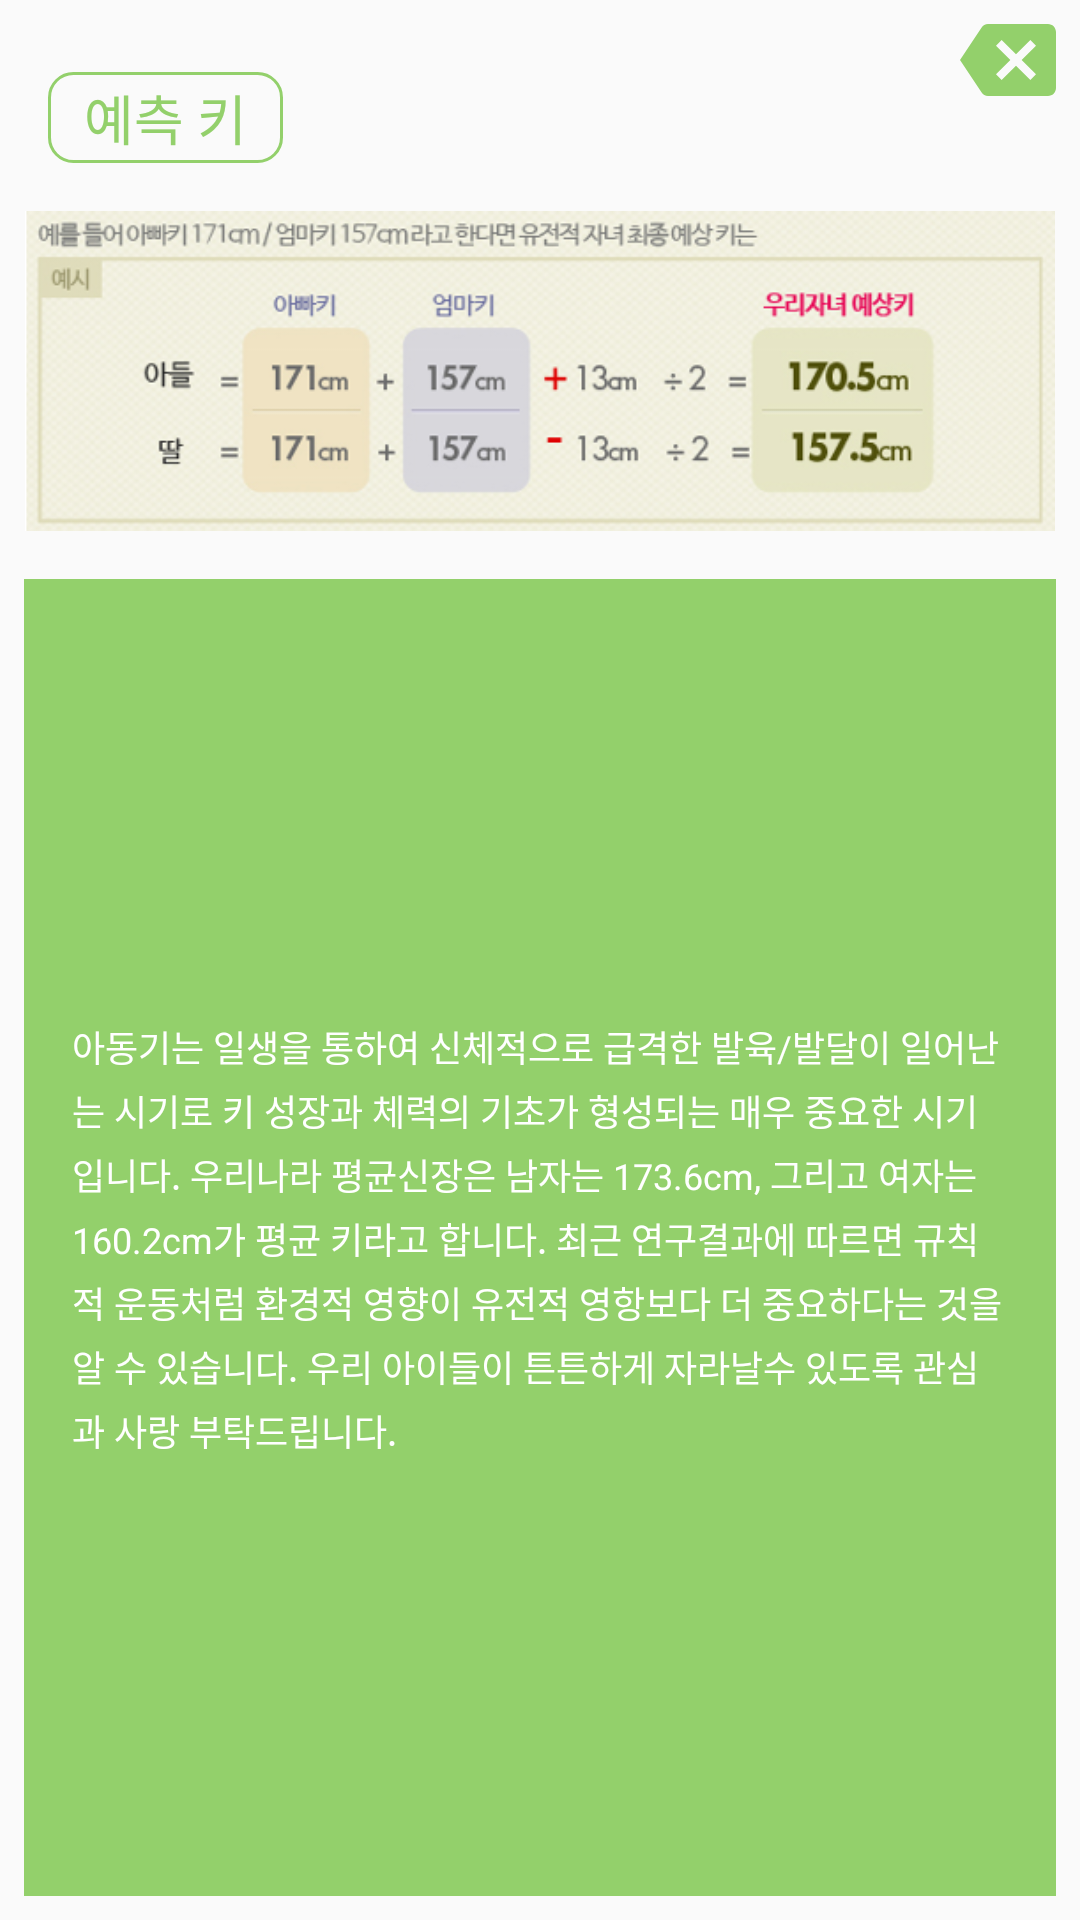

Icons on this 1080w x 1920h Android screen, each with the point to tap as [x,y]:
backspace: [1008,60]
